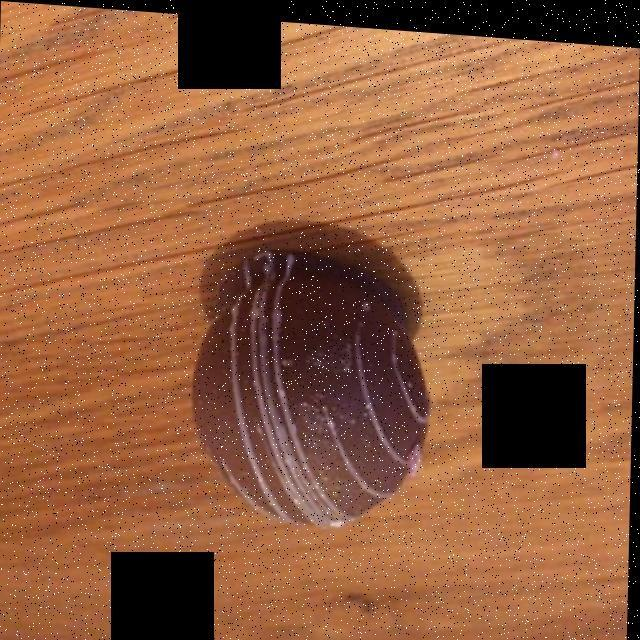nuts: (193, 250, 425, 521)
